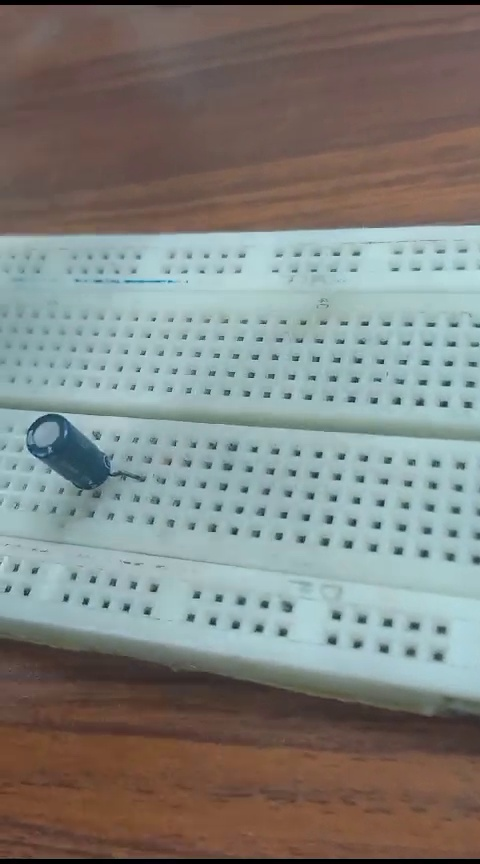capacitor: (25, 412, 128, 497)
